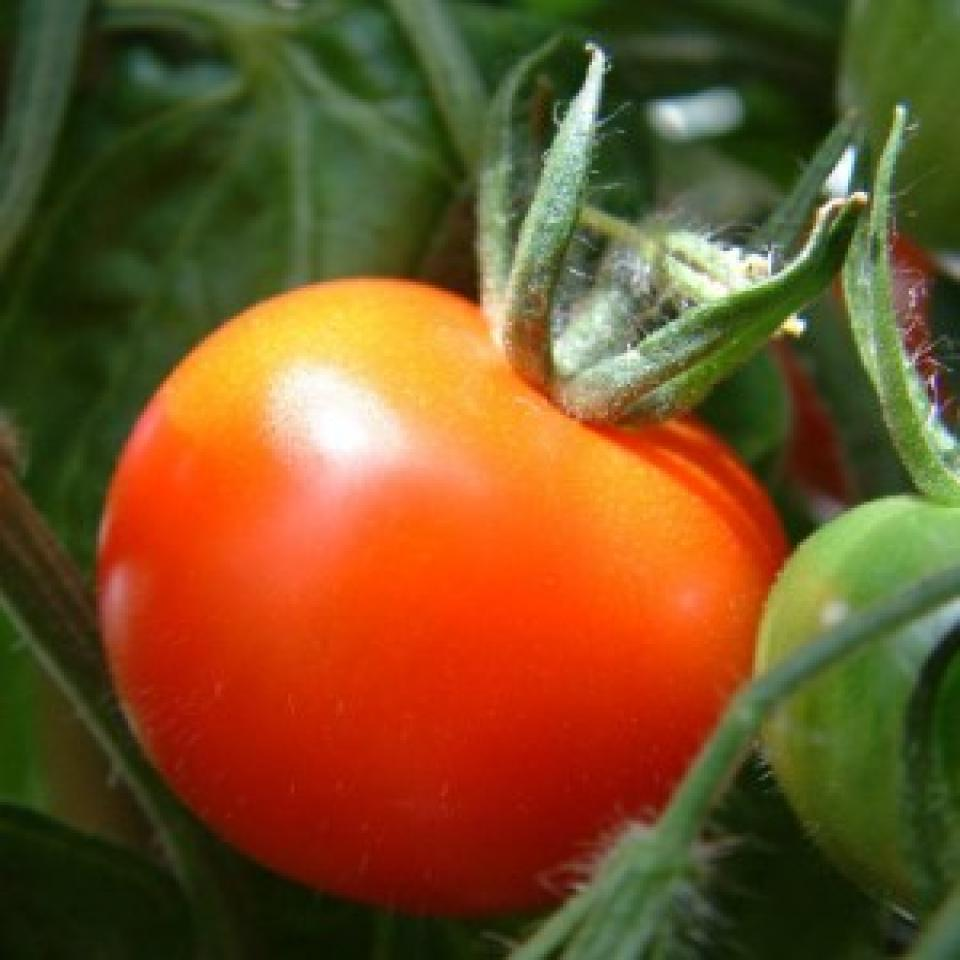Healthy: (91, 250, 791, 918)
